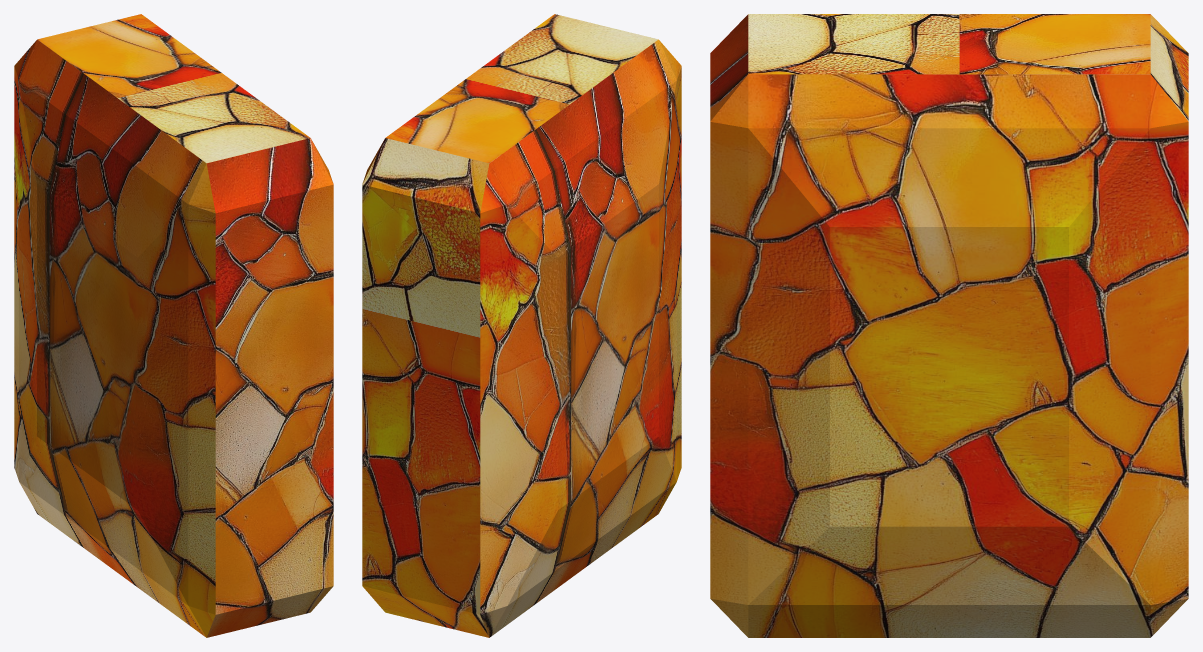
File: gemstone6OrangeCompressed.glb
3 renders of one model, left to right at view 1: azimuth 30°, elevation 25°; view 2: azimuth 150°, elevation 25°; view 3: azimuth 270°, elevation 25°, orthographic. The views are drawn at different scales.
Visible parts, largest first — view 1: gemstone5; view 2: gemstone5; view 3: gemstone5.
Part boxes in pixels (x1,y1,x2,y2): gemstone5: [14, 14, 333, 637]; gemstone5: [362, 14, 681, 637]; gemstone5: [710, 14, 1188, 637].
Size of the model in its own units: 0.5 by 1.3 by 1.
1 material, 1 textured.
